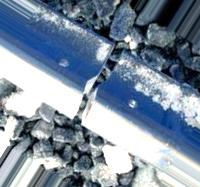tracks_fault: (66, 26, 137, 131)
